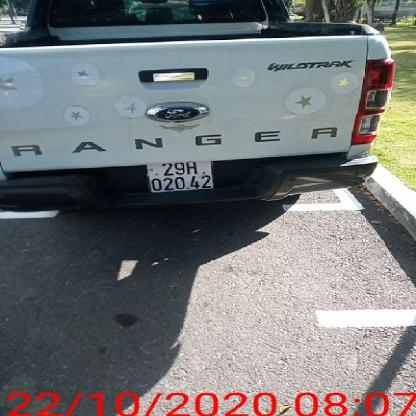biensoxe: (148, 160, 220, 193)
